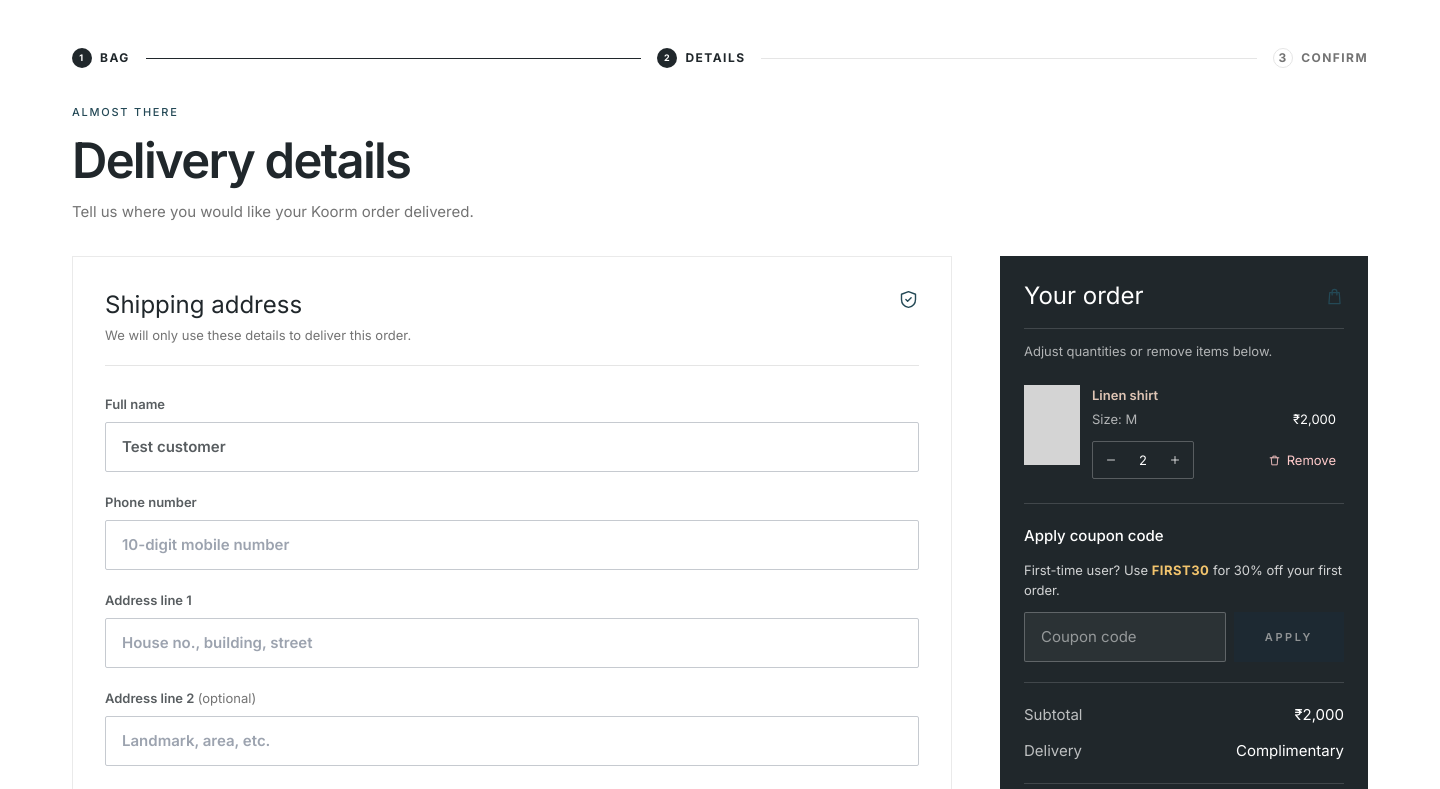
Test case: clears a previously computed coupon when quantities change
Type "FIRST30" into the field with placeholder "coupon code" at (1125, 637), box [1024,612,1226,662]
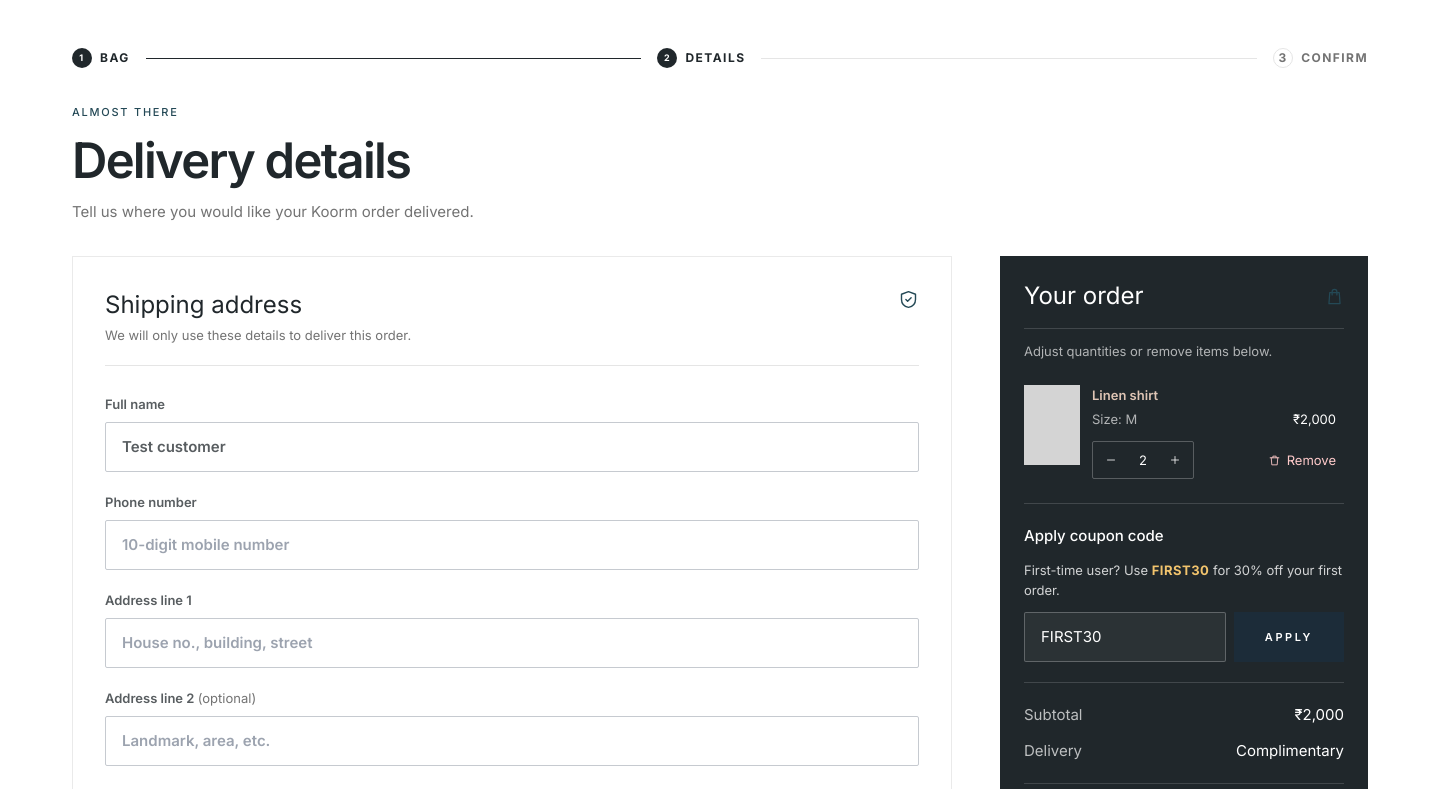
Click the button "Apply" at (1289, 637), box [1234,612,1344,662]
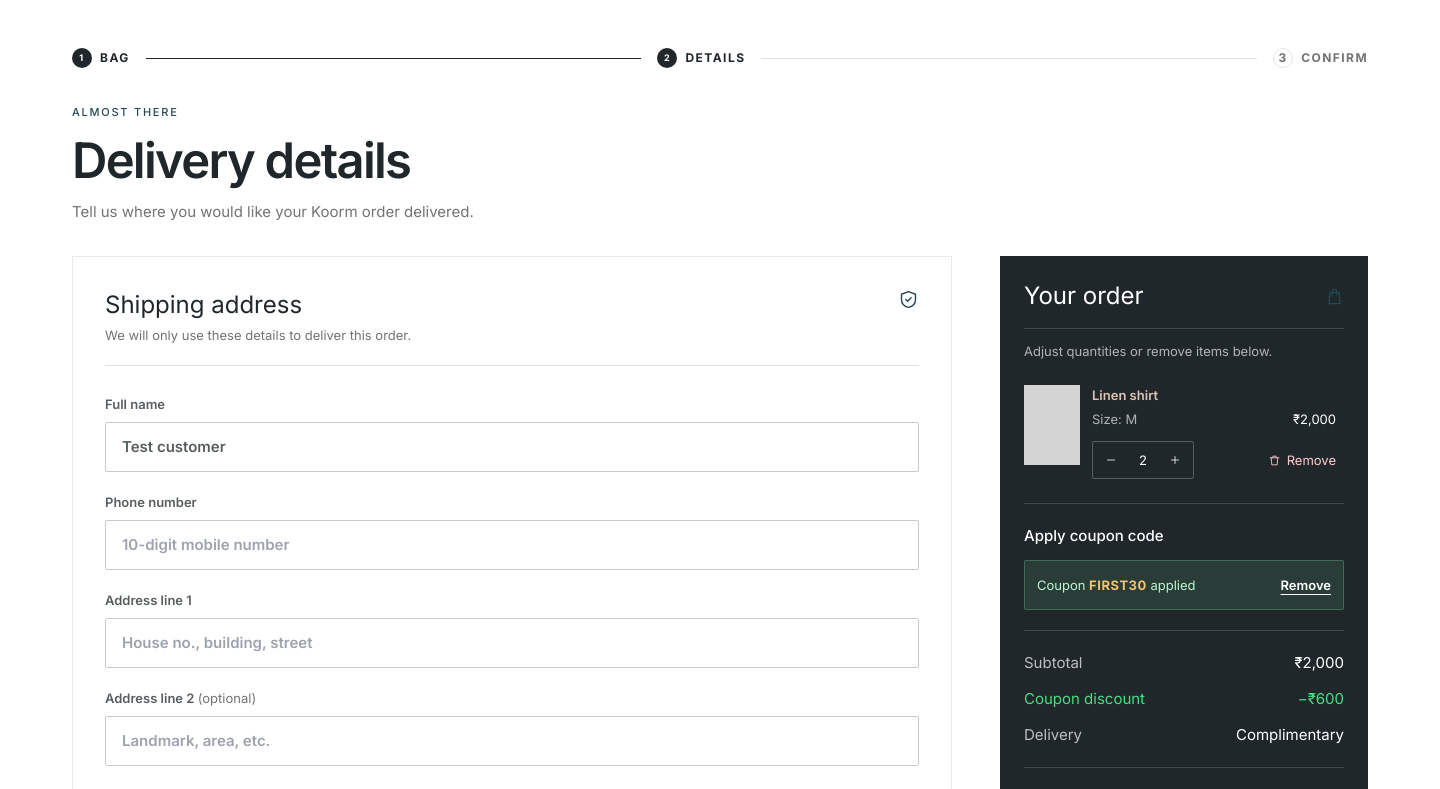
Expected: the text "Coupon discount" is shown, [1024,687,1145,711]
Click the button named "Decrease quantity for Linen shirt, size M" at (1111, 460), box [1093,442,1129,478]
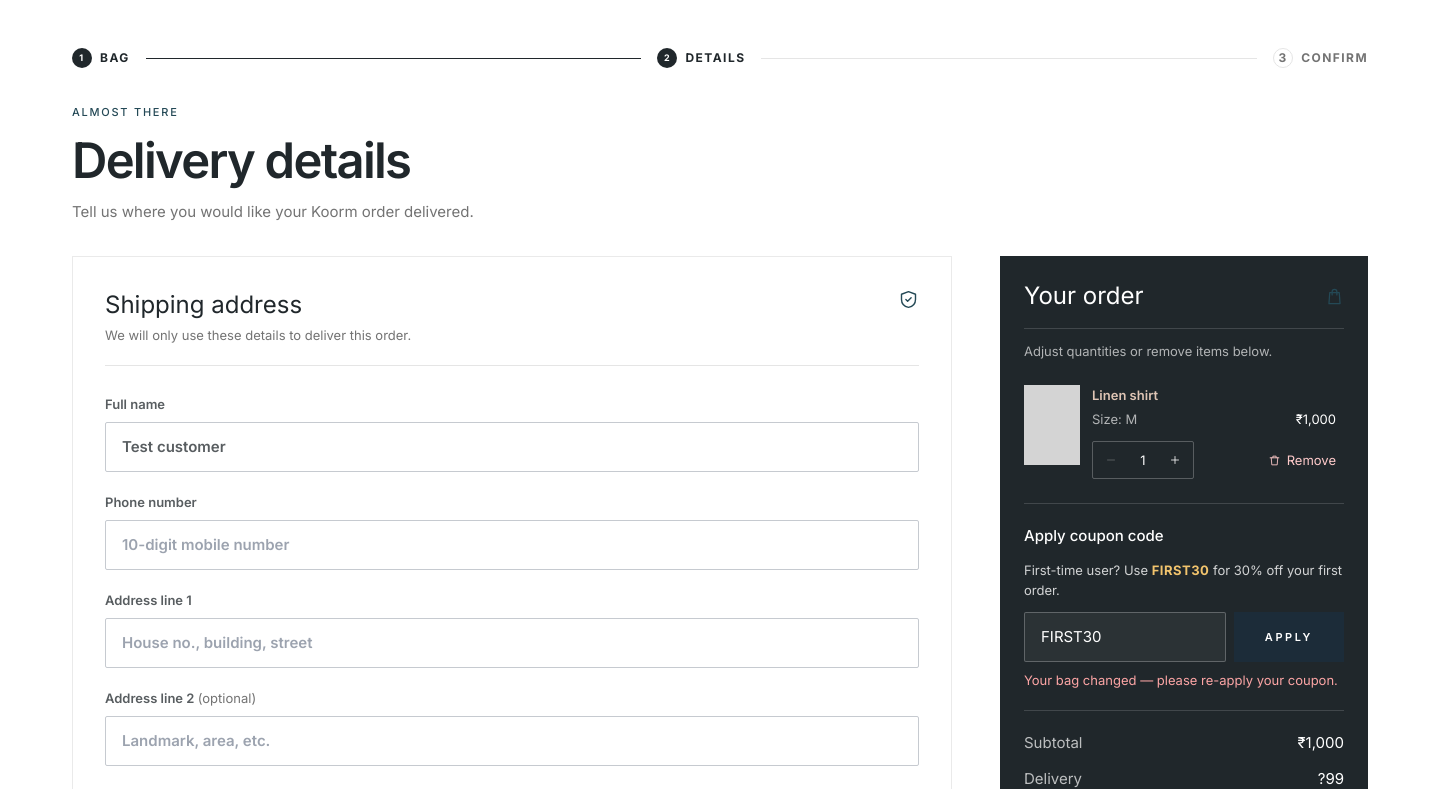
Expected: the text "Coupon discount" is gone
Expected: the text "Your bag changed — please re-apply your coupon." is shown, [1024,670,1344,690]
